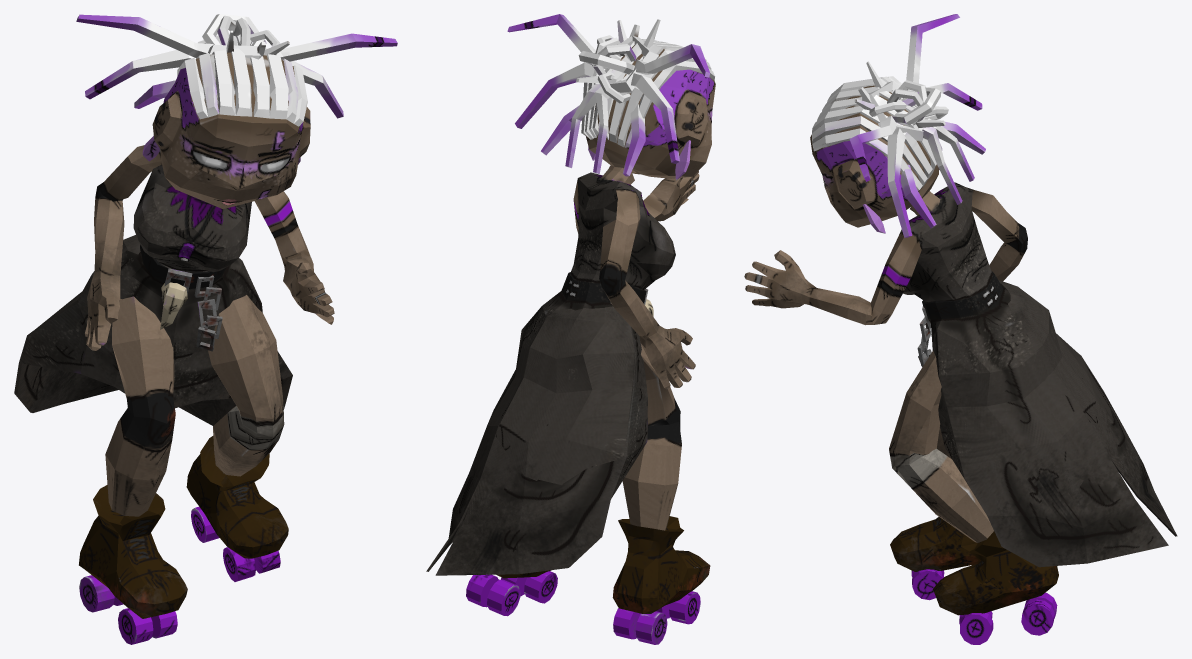
Rendered from bruja_000008.obj.
3 renders of one model, left to right at view 1: azimuth 30°, elevation 25°; view 2: azimuth 150°, elevation 25°; view 3: azimuth 270°, elevation 25°, orthographic. The views are drawn at different scales.
Parts seen in each view (by area): view 1: Bruja_Plane.001; view 2: Bruja_Plane.001; view 3: Bruja_Plane.001.
Boxes of the visible parts, x1,y1,x2,y2 form: Bruja_Plane.001: (14,14,397,644); Bruja_Plane.001: (426,14,715,644); Bruja_Plane.001: (744,14,1177,644).
Size of the model in its own units: 7 by 15.59 by 10.94.
